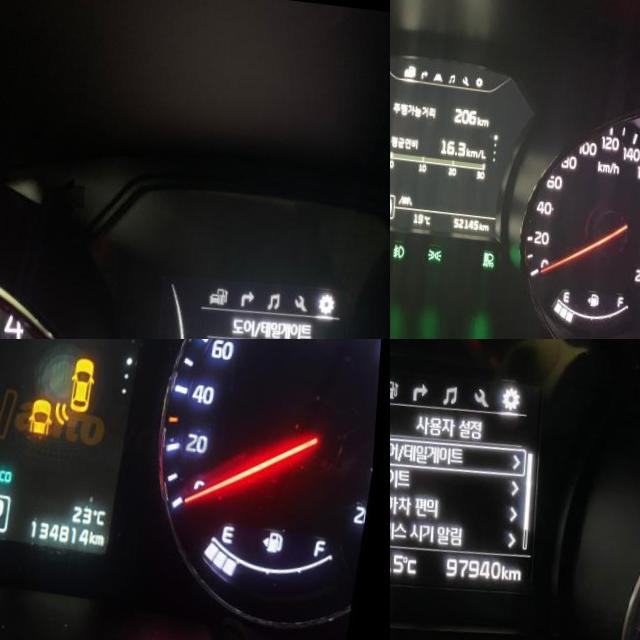FrontFogLight: (397, 235, 410, 252)
SideLamp: (432, 238, 448, 254)
